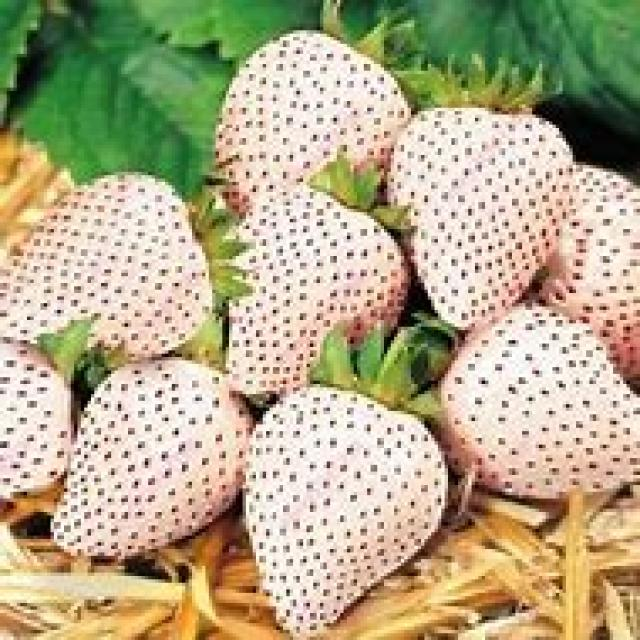Berries strawberries/blueberries: (248, 397, 443, 638), (441, 323, 640, 499), (16, 172, 208, 354), (398, 101, 571, 281), (80, 362, 238, 553), (227, 190, 405, 350), (220, 26, 396, 178)
